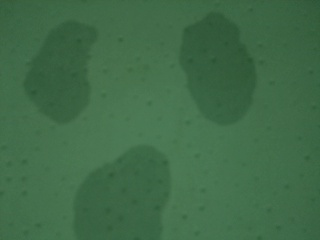Water_detected: (78, 153, 164, 236), (181, 33, 239, 113), (34, 36, 79, 109)
